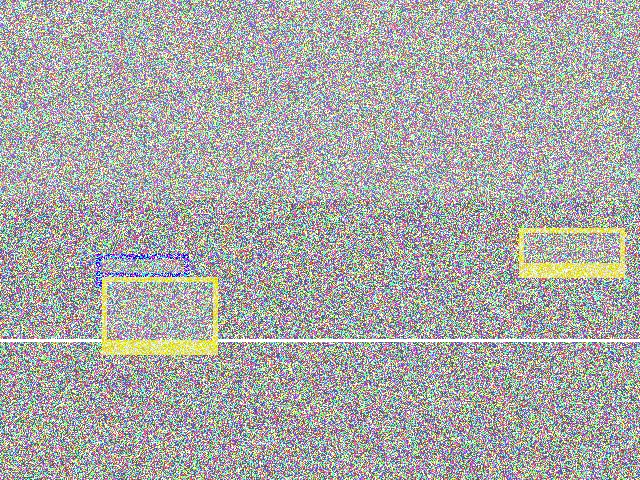bus: (458, 251, 625, 339), (189, 378, 339, 453)
